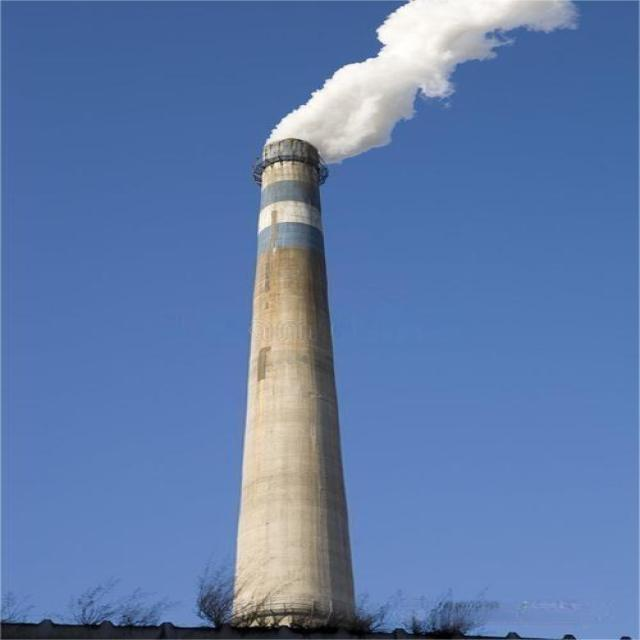Smoke: (274, 0, 574, 147)
